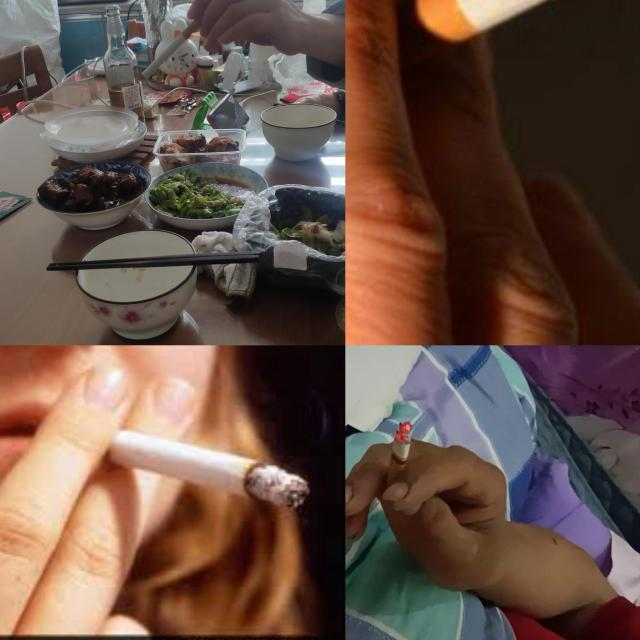smoking: (90, 422, 310, 510), (383, 0, 640, 65), (142, 13, 206, 79), (383, 420, 415, 496)
